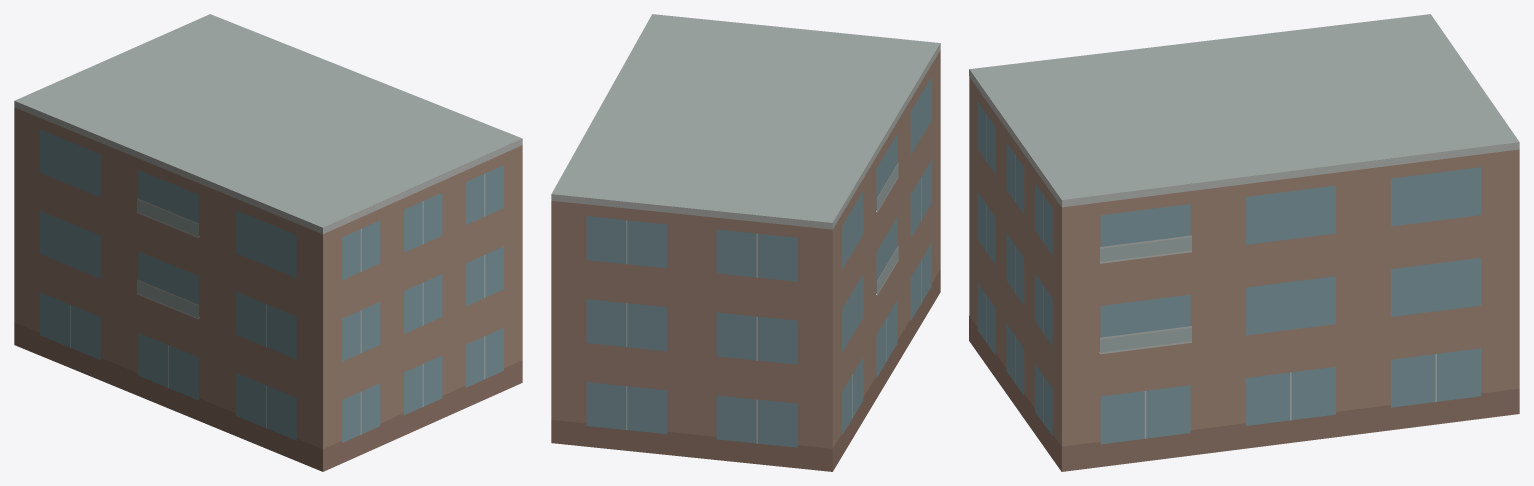
The model's file is survey-upis-32698048.glb.
The picture shows the model from 3 angles, left to right: view 1: azimuth 30°, elevation 25°; view 2: azimuth 150°, elevation 25°; view 3: azimuth 270°, elevation 25°; orthographic projection. The views are drawn at different scales.
Visible parts, largest first — view 1: survey-upis-32698048.tmp; view 2: survey-upis-32698048.tmp; view 3: survey-upis-32698048.tmp.
Part boxes in pixels (box(x1,y1,x2,y2)): survey-upis-32698048.tmp: box(14, 14, 522, 471); survey-upis-32698048.tmp: box(551, 14, 940, 471); survey-upis-32698048.tmp: box(969, 14, 1519, 471).
Bounding box in the file's own units: 13.45 × 9.15 × 16.81.
